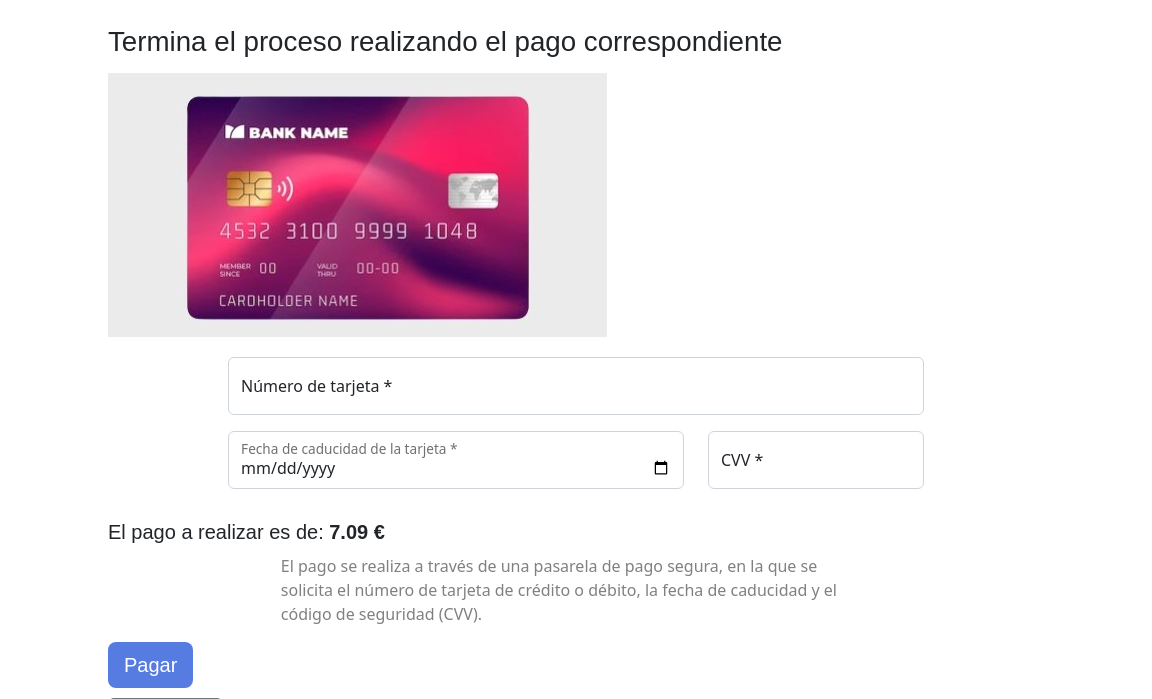
Test case: Pay › Si al pulsar en el botón pagar el número de tarjeta es erróneo muestra la alerta "El número de tarjeta es erróneo."
Type "123456789" into the number field labelled "Número de tarjeta *" at (576, 386), box [228,357,924,415]
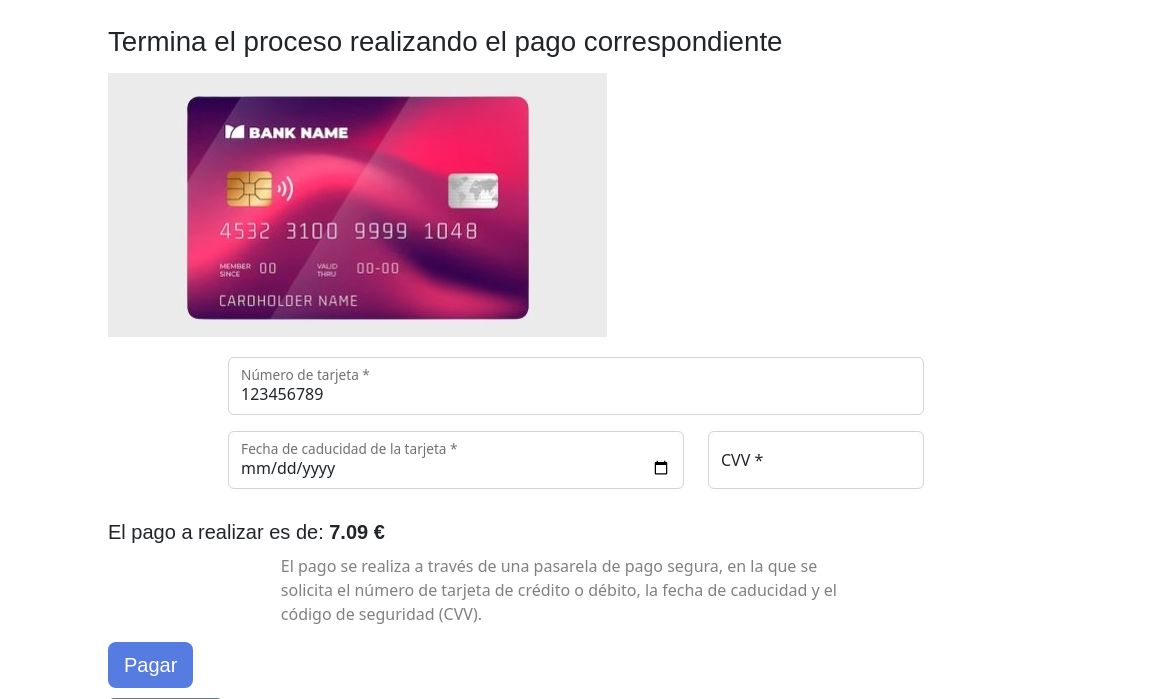
Click the button "Pagar" at (151, 665), box [108,642,193,688]
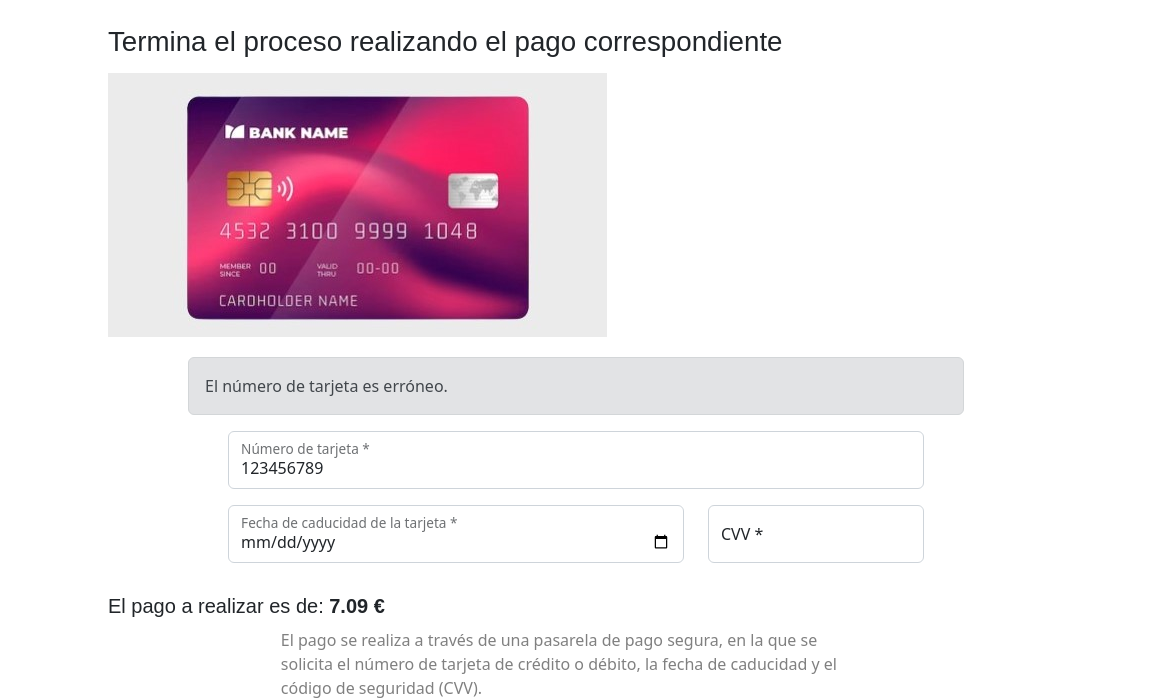
Check: the text "El número de tarjeta es erróneo." is shown, box [188,357,964,415]
